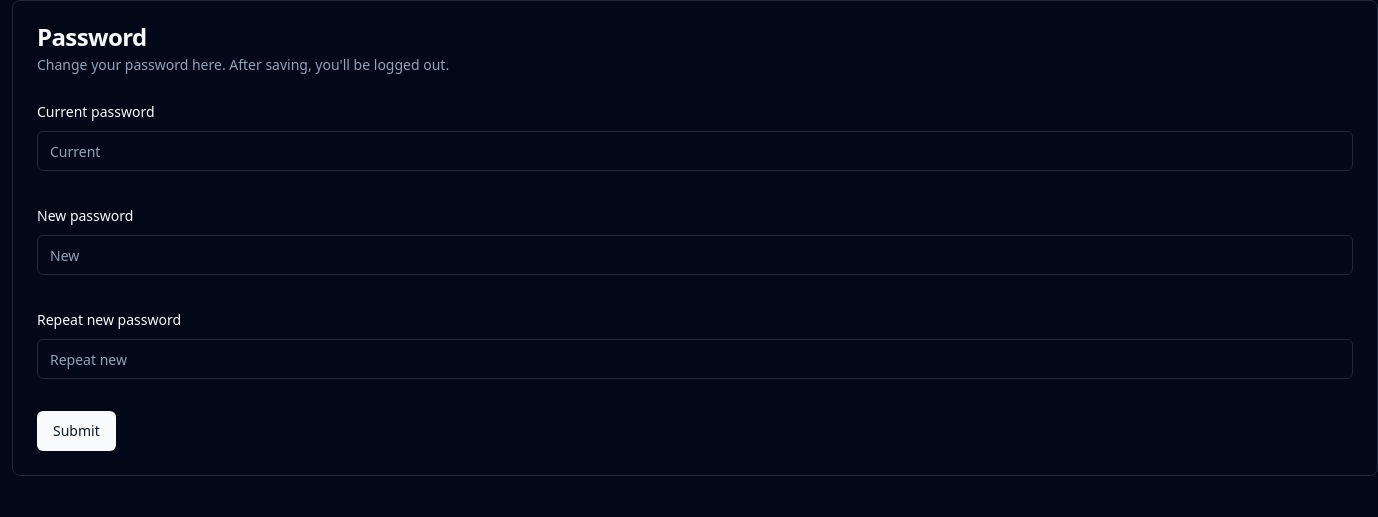
Test: PasswordTab › submit form with valid data
In the field with placeholder "Current": {"x": 695, "y": 151} [37, 131, 1353, 171], type "currentPassword"
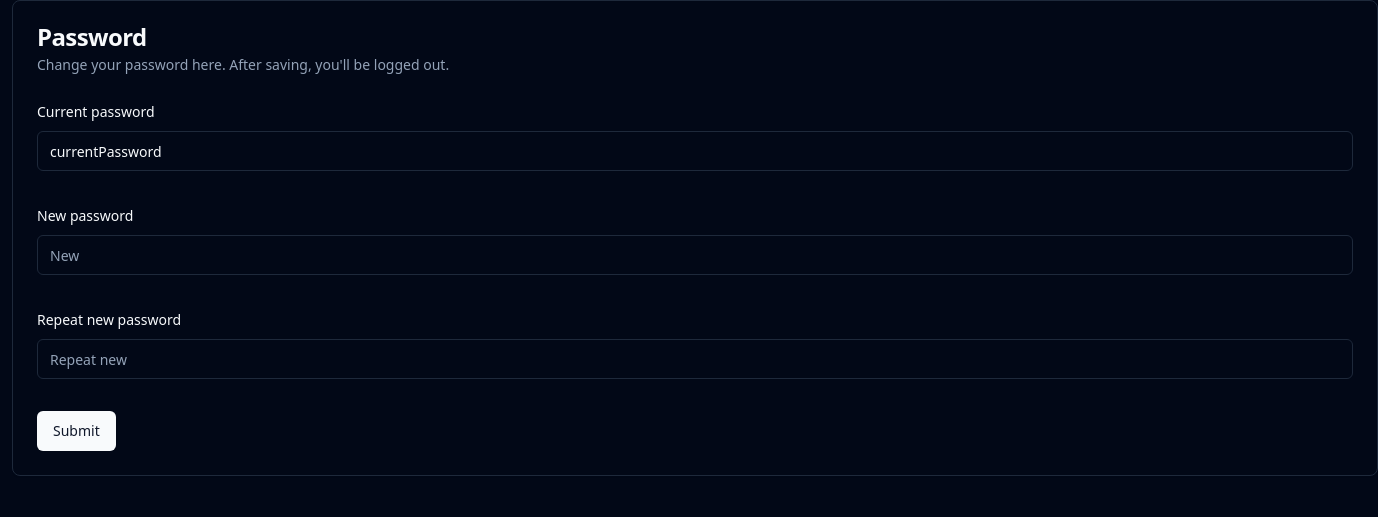
In the field with placeholder "New": {"x": 695, "y": 255} [37, 235, 1353, 275], type "newPassword"
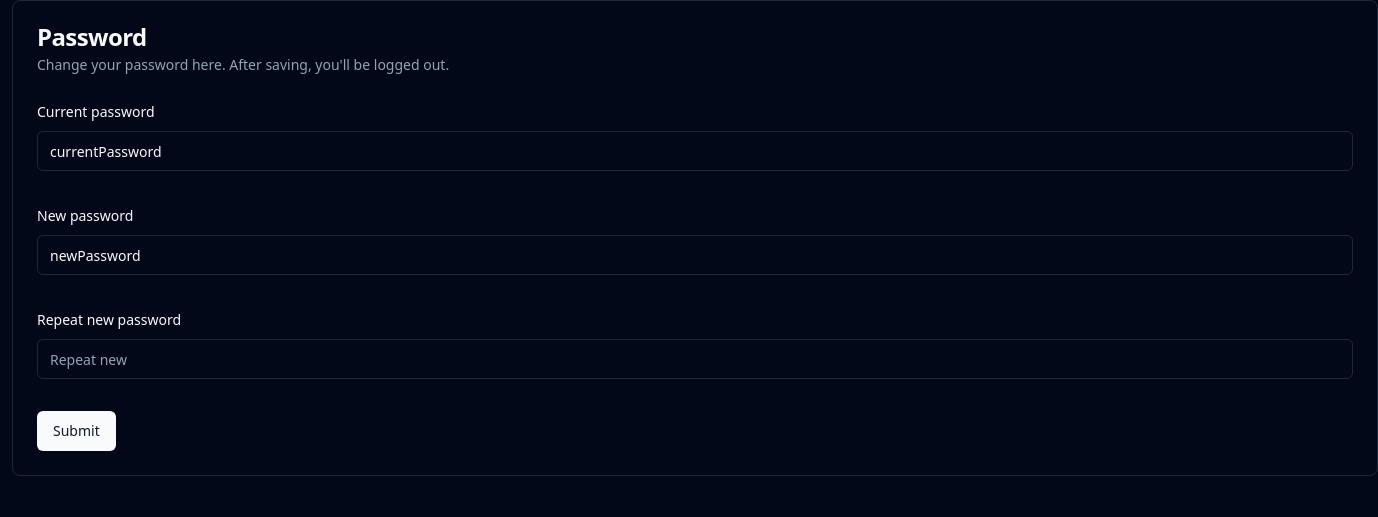
In the field with placeholder "Repeat new": {"x": 695, "y": 359} [37, 339, 1353, 379], type "newPassword"
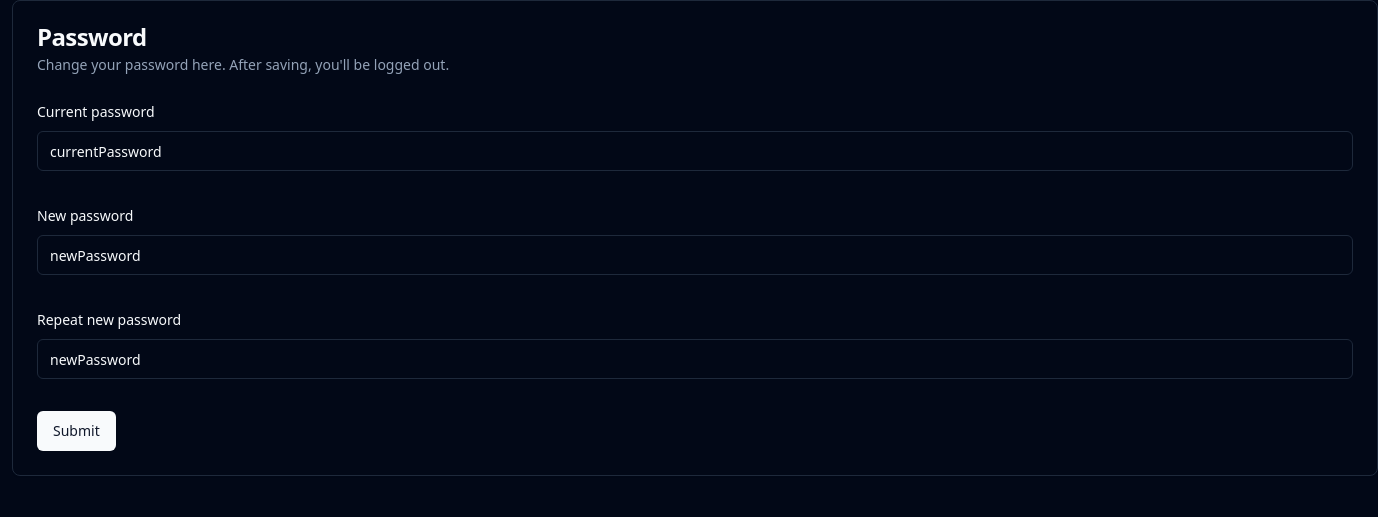
Click the button "Submit": {"x": 76, "y": 431} [37, 411, 116, 451]
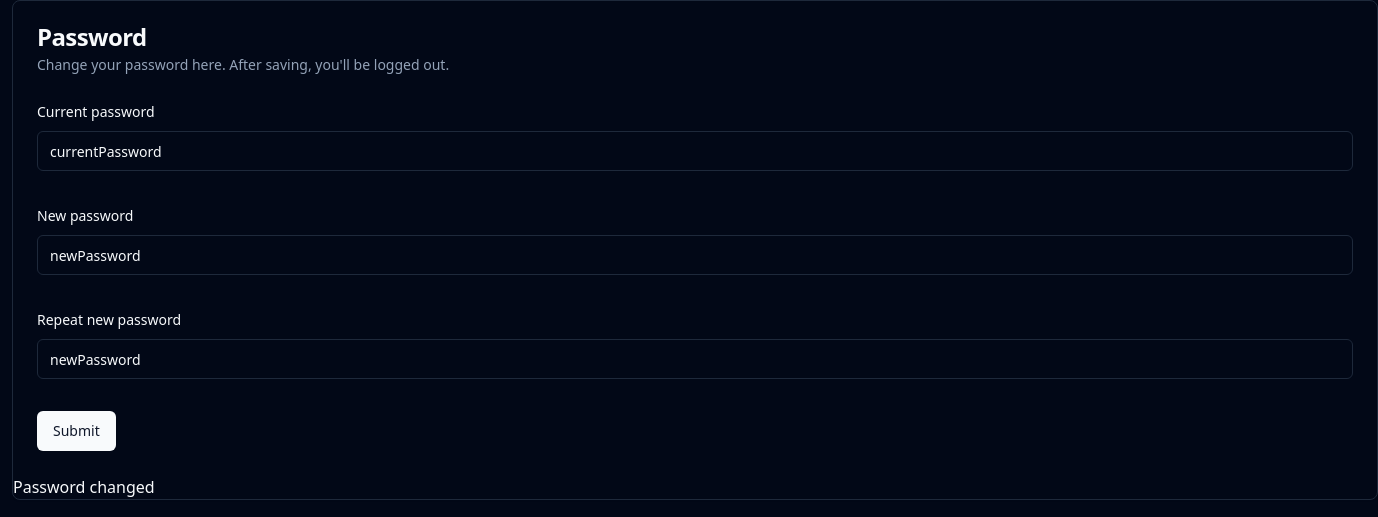
Result: the text "Password changed" is shown at [13, 476, 155, 498]
